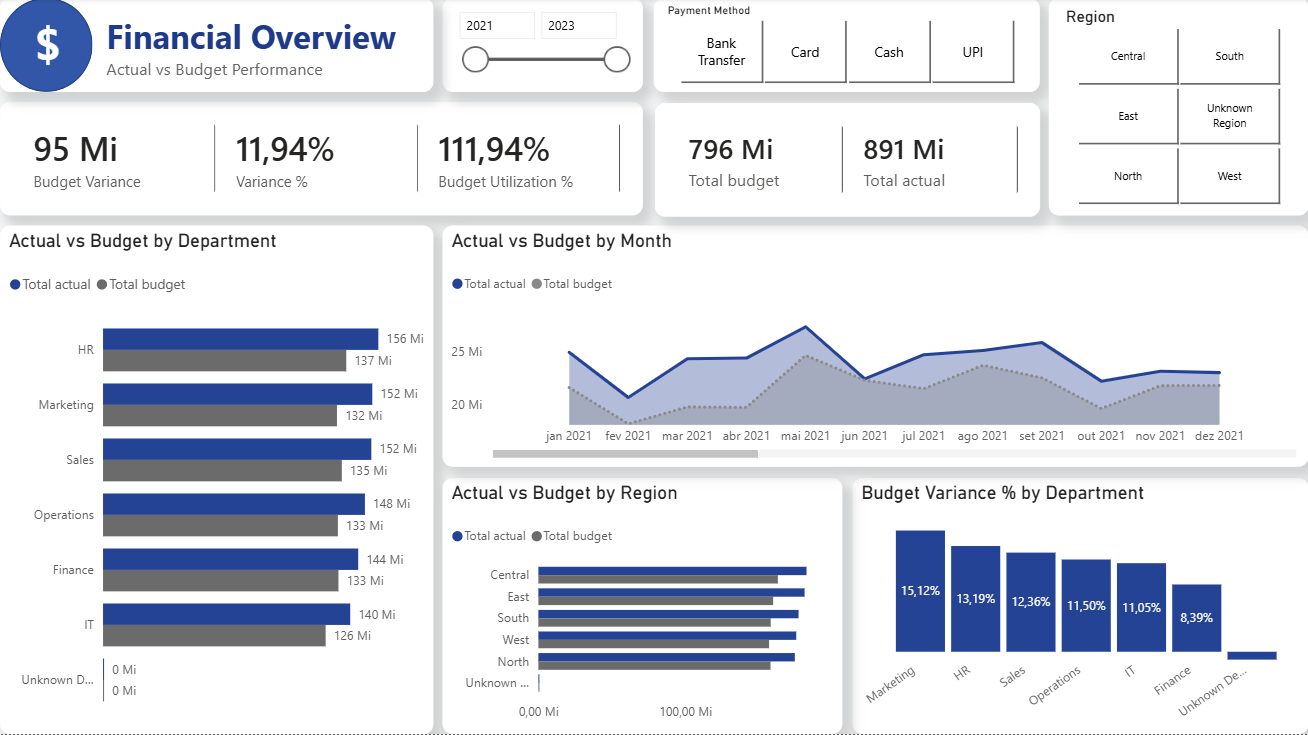

The dashboard page shown, as its layout file describes it:
{"tool":"powerbi","page":{"name":"Página 1","canvas":[1280,720],"ordinal":0},"visuals":[{"type":"shape","box":[0,0,1280.3,720.2],"z":500},{"type":"cardVisual","fields":{"Data":["Medidas.Variance","Medidas.Variance %","Medidas.Budget Utilization %"]},"box":[0,101.5,628.5,111.3],"z":1000},{"type":"columnChart","title":"Budget Variance % by Department","fields":{"Category":["Sheet1.Department"],"Y":["Medidas.Variance %"]},"box":[834,469.6,446.3,250.7],"z":2000},{"type":"clusteredBarChart","title":"Actual vs Budget by Department","fields":{"Category":["Sheet1.Department"],"Y":["Medidas.Total actual","Medidas.Total budget"]},"box":[0,222.6,424.3,497.7],"z":3000},{"type":"clusteredBarChart","title":"Actual vs Budget by Region","fields":{"Category":["Sheet1.Region"],"Y":["Medidas.Total actual","Medidas.Total budget"]},"box":[432.9,469.6,391.3,250.7],"z":4000},{"type":"lineChart","title":"Actual vs Budget by Month","fields":{"Category":["Calendar.Month Year"],"Y":["Medidas.Total actual","Medidas.Total budget"]},"box":[432.9,222.6,847.4,236],"z":5000},{"type":"slicer","fields":{"Values":["Calendar.Year"]},"box":[432.9,0,195.7,91.7],"z":6000},{"type":"slicer","fields":{"Values":["Sheet1.Payment Method"]},"box":[639.5,0,377.9,91.7],"z":7000},{"type":"cardVisual","fields":{"Data":["Medidas.Total budget","Medidas.Total actual"]},"box":[640.8,102.7,376.6,111.3],"z":8000},{"type":"slicer","fields":{"Values":["Sheet1.Region"]},"box":[1026,0,254.3,212.8],"z":9000},{"type":"shape","box":[0,0,424.3,91.7],"z":9500},{"type":"textbox","box":[99,11,315.5,91.7],"z":10000},{"type":"shape","box":[0,0,90.5,91.7],"z":11000},{"type":"textbox","box":[29.3,9.8,69.7,91.7],"z":12000}]}

Visuals, with their boxes in screenshot pixels (x1, y1, x2, y2), scaled from the page's 1280x720 canvas onto the 1308x735 screenshot:
shape: bbox=(0, 0, 1307, 734)
cardVisual - Medidas.Variance x Medidas.Variance %: bbox=(0, 104, 642, 217)
"Budget Variance % by Department" columnChart: bbox=(852, 479, 1307, 734)
"Actual vs Budget by Department" clusteredBarChart: bbox=(0, 227, 434, 734)
"Actual vs Budget by Region" clusteredBarChart: bbox=(442, 479, 842, 734)
"Actual vs Budget by Month" lineChart: bbox=(442, 227, 1307, 468)
slicer - Calendar.Year: bbox=(442, 0, 642, 94)
slicer - Sheet1.Payment Method: bbox=(653, 0, 1040, 94)
cardVisual - Medidas.Total budget x Medidas.Total actual: bbox=(655, 105, 1040, 218)
slicer - Sheet1.Region: bbox=(1048, 0, 1307, 217)
shape: bbox=(0, 0, 434, 94)
textbox: bbox=(101, 11, 424, 105)
shape: bbox=(0, 0, 92, 94)
textbox: bbox=(30, 10, 101, 104)
